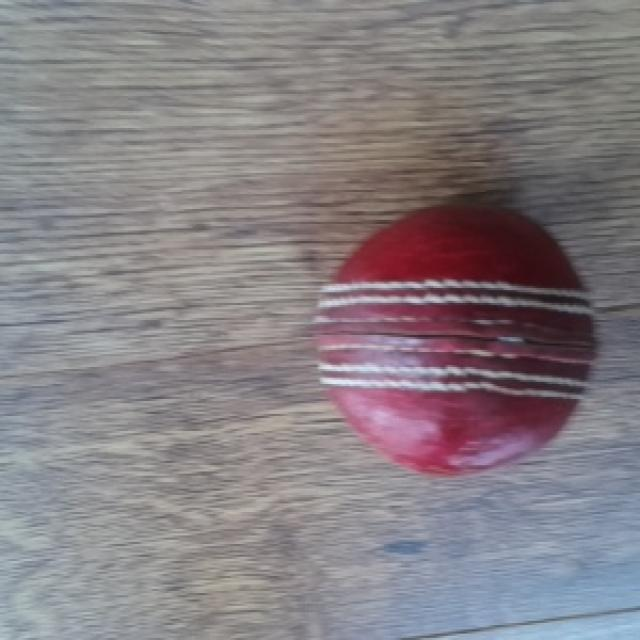ball: (314, 203, 602, 473)
